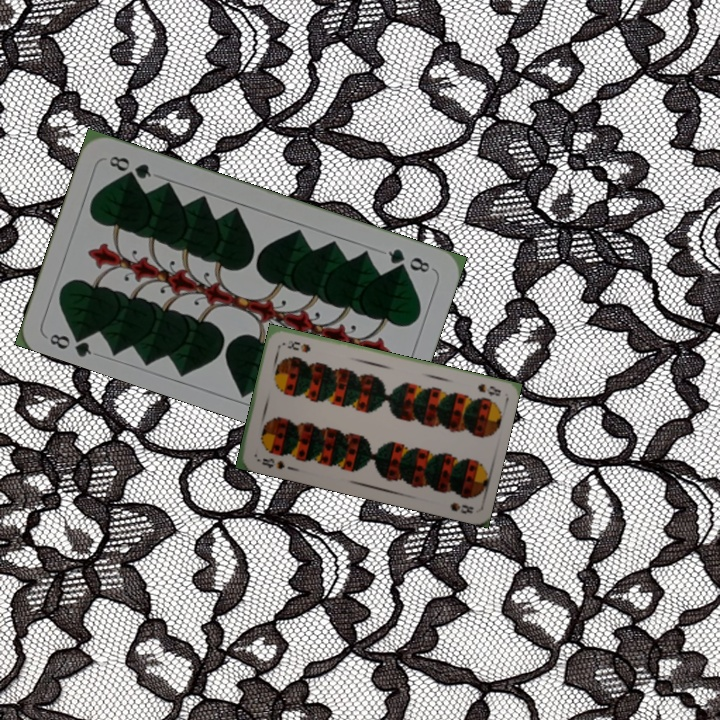G8: (45, 326, 94, 359), (383, 244, 433, 275)
S8: (474, 379, 503, 399), (258, 454, 287, 471)
